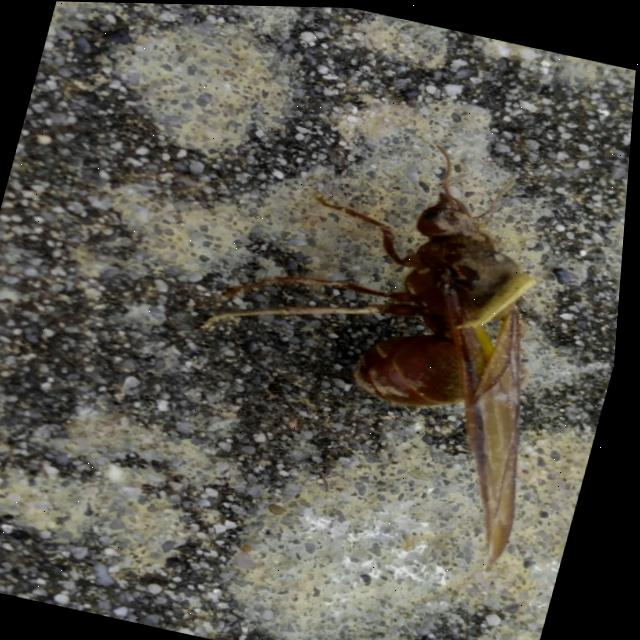Alive-Female-Alate: (159, 101, 613, 574)
